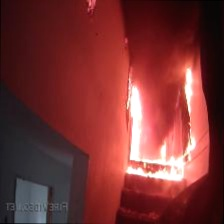fire: (113, 64, 201, 183)
